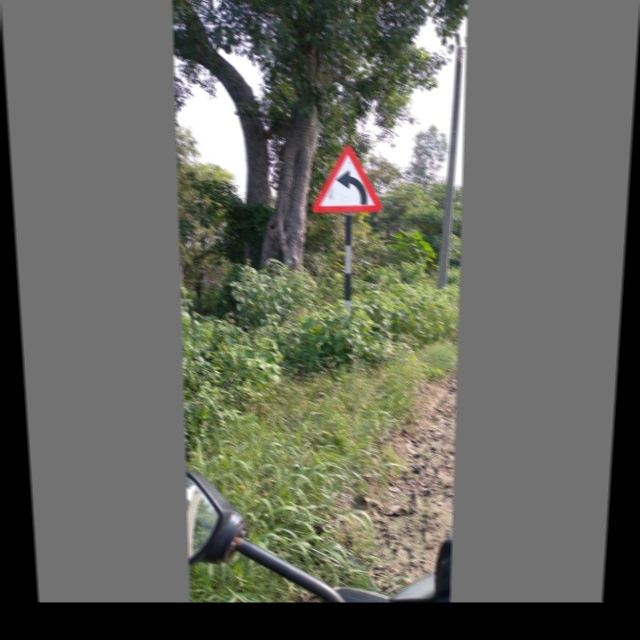Left_Hand_Curve: (307, 140, 383, 216)
